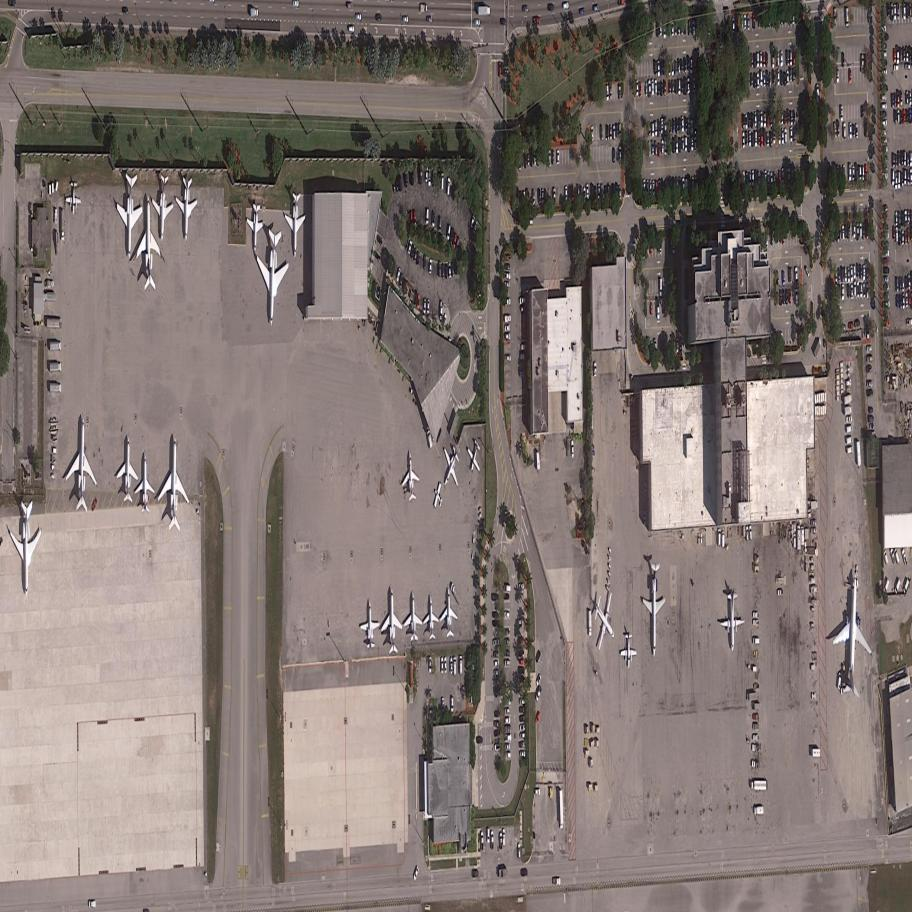large-vehicle: (448, 583, 462, 605), (559, 790, 564, 830), (813, 339, 823, 358), (750, 780, 768, 790), (47, 319, 62, 329), (426, 431, 433, 450), (894, 578, 902, 594), (810, 748, 821, 759), (478, 6, 491, 15), (883, 578, 890, 594), (50, 362, 61, 372), (903, 579, 910, 594), (857, 442, 861, 467), (588, 611, 592, 636), (807, 547, 818, 556), (893, 550, 900, 564), (902, 549, 908, 565), (49, 383, 61, 391), (752, 743, 761, 753), (751, 760, 760, 770), (747, 693, 758, 701), (50, 341, 61, 349), (44, 293, 55, 301), (890, 549, 896, 563), (837, 673, 842, 689), (420, 5, 428, 15), (844, 396, 853, 404), (798, 526, 801, 548), (810, 502, 818, 510), (45, 280, 53, 288), (251, 8, 259, 16), (754, 807, 763, 814), (845, 407, 852, 416), (62, 210, 64, 240), (801, 526, 804, 545), (753, 723, 760, 731), (89, 900, 96, 908), (753, 638, 760, 643)
plane: (830, 564, 877, 704), (253, 223, 293, 332), (62, 408, 100, 520), (585, 575, 626, 668), (8, 492, 42, 602), (155, 433, 192, 534), (429, 432, 472, 504), (116, 170, 145, 262), (135, 193, 161, 293), (642, 561, 666, 661), (150, 168, 176, 247), (282, 188, 307, 261), (115, 433, 139, 508), (719, 590, 746, 654), (175, 174, 198, 246), (381, 587, 403, 655), (461, 431, 488, 481), (135, 450, 155, 516), (401, 448, 420, 505), (246, 201, 265, 256), (360, 598, 380, 650), (404, 592, 423, 642), (441, 588, 458, 639), (423, 593, 439, 641), (429, 478, 447, 516), (620, 631, 637, 671), (65, 178, 82, 218)
small-vehicle: (374, 233, 385, 246), (413, 866, 420, 882), (397, 170, 402, 190), (373, 251, 382, 262), (535, 687, 542, 701), (473, 218, 479, 234), (394, 172, 399, 191), (804, 266, 811, 278), (879, 119, 888, 128), (535, 712, 541, 725), (534, 651, 541, 662), (392, 175, 396, 194), (470, 214, 475, 229), (404, 234, 409, 249), (396, 268, 401, 283), (404, 169, 408, 187), (536, 674, 542, 686), (883, 550, 888, 564), (410, 245, 415, 259), (441, 695, 445, 712), (456, 236, 460, 253), (447, 223, 451, 240), (408, 241, 413, 254), (432, 210, 436, 226), (480, 833, 484, 849), (414, 248, 418, 264), (443, 313, 447, 329), (419, 162, 422, 183), (453, 233, 457, 248), (444, 658, 448, 672), (417, 252, 421, 266), (402, 278, 406, 292), (414, 291, 418, 305), (651, 141, 655, 155), (534, 16, 540, 25), (571, 440, 574, 458), (451, 694, 454, 712), (425, 165, 428, 183), (411, 167, 414, 185), (472, 870, 478, 879), (809, 528, 818, 534), (441, 172, 444, 189), (692, 20, 695, 37), (901, 210, 904, 227), (843, 122, 846, 139), (534, 789, 541, 796), (609, 84, 612, 100), (500, 19, 506, 27), (505, 315, 511, 323), (513, 218, 521, 224), (532, 190, 535, 206), (866, 365, 872, 373), (348, 25, 354, 33), (474, 18, 480, 26), (426, 208, 429, 224), (429, 259, 432, 275), (490, 832, 493, 848), (517, 843, 520, 859), (423, 298, 426, 314), (645, 81, 648, 97), (747, 15, 750, 31), (898, 172, 901, 188), (892, 169, 895, 185), (897, 92, 900, 108), (893, 3, 896, 19), (846, 9, 849, 25), (849, 164, 852, 180), (548, 150, 551, 165), (606, 85, 609, 100), (499, 62, 502, 77), (718, 530, 721, 545), (429, 658, 432, 673), (441, 657, 444, 672), (410, 208, 413, 223), (487, 827, 490, 842), (500, 833, 503, 848), (767, 113, 770, 128), (784, 130, 787, 145), (648, 80, 651, 95), (663, 24, 666, 39), (675, 21, 678, 36), (671, 61, 674, 76), (674, 60, 677, 75), (892, 224, 895, 239), (895, 210, 898, 225), (900, 48, 903, 63), (816, 86, 819, 101), (849, 124, 852, 139), (836, 226, 839, 241), (606, 126, 609, 140), (609, 126, 612, 140), (527, 152, 530, 166), (618, 84, 621, 98), (620, 83, 623, 97), (504, 333, 510, 340), (493, 670, 500, 676), (504, 660, 510, 667), (504, 298, 510, 305), (519, 298, 526, 304), (504, 263, 511, 269), (883, 292, 889, 299), (752, 735, 759, 741), (375, 15, 381, 22), (292, 0, 299, 6), (403, 16, 409, 23), (438, 217, 441, 231), (506, 735, 512, 742), (519, 697, 525, 704), (519, 732, 526, 738), (504, 586, 510, 593), (517, 618, 523, 625), (518, 668, 524, 675), (477, 736, 483, 743), (451, 261, 454, 275), (454, 259, 457, 273), (521, 868, 527, 875), (400, 273, 403, 287), (778, 111, 781, 125), (745, 115, 748, 129), (772, 71, 775, 85), (781, 52, 784, 66), (753, 55, 756, 69), (810, 520, 817, 526), (655, 141, 658, 155), (661, 140, 664, 154), (656, 21, 659, 35), (684, 20, 687, 34), (688, 21, 691, 35), (732, 18, 735, 32), (684, 58, 687, 72), (678, 79, 681, 93), (761, 172, 764, 186), (881, 136, 887, 143), (904, 170, 907, 184), (904, 211, 907, 225), (881, 102, 887, 109), (881, 93, 887, 100), (835, 269, 838, 283), (841, 268, 844, 282), (866, 324, 869, 338), (834, 122, 837, 136), (834, 9, 837, 23), (842, 225, 845, 239), (862, 224, 865, 238), (852, 167, 855, 181), (847, 426, 852, 434), (847, 436, 852, 444), (847, 446, 852, 454), (429, 166, 431, 186), (519, 676, 524, 684), (893, 63, 898, 71), (881, 25, 886, 33), (551, 151, 554, 164), (600, 127, 603, 140), (616, 124, 619, 137), (643, 179, 646, 192), (417, 295, 420, 308), (769, 73, 772, 86), (753, 74, 756, 87), (760, 72, 763, 85), (770, 114, 773, 127), (781, 112, 784, 125), (750, 55, 753, 68), (787, 111, 790, 124), (655, 122, 658, 135), (661, 122, 664, 135), (664, 120, 667, 133), (651, 80, 654, 93), (775, 270, 778, 283), (741, 14, 744, 27), (655, 62, 658, 75), (901, 174, 904, 187), (904, 276, 907, 289), (901, 232, 904, 245), (908, 293, 911, 306), (860, 283, 863, 296), (782, 271, 785, 284), (845, 224, 848, 237), (460, 654, 462, 673), (523, 6, 529, 12), (548, 4, 554, 10), (593, 4, 599, 10), (520, 343, 526, 349), (519, 372, 525, 378), (493, 641, 499, 647), (504, 325, 510, 331), (866, 346, 872, 352), (650, 303, 653, 315), (846, 417, 852, 423), (356, 15, 362, 21), (518, 584, 524, 590), (518, 651, 524, 657), (494, 744, 500, 750), (494, 730, 500, 736), (494, 720, 500, 726), (494, 711, 500, 717), (554, 879, 560, 885), (758, 173, 761, 185), (745, 132, 748, 144), (678, 121, 681, 133), (900, 93, 903, 105), (881, 84, 887, 90), (881, 69, 887, 75), (881, 61, 887, 67), (894, 110, 897, 122), (903, 110, 906, 122), (782, 231, 785, 243), (580, 8, 585, 15), (520, 305, 525, 312), (867, 381, 872, 388), (867, 391, 872, 398), (884, 301, 889, 308), (883, 258, 888, 265), (883, 276, 888, 283), (753, 713, 758, 720), (505, 743, 510, 750), (505, 752, 510, 759), (520, 715, 525, 722), (505, 717, 510, 724), (518, 637, 523, 644), (881, 43, 886, 50), (440, 303, 442, 320), (778, 69, 780, 86), (895, 173, 897, 190), (857, 224, 859, 241), (770, 173, 773, 184), (601, 184, 603, 200), (636, 80, 638, 96), (524, 152, 526, 168), (553, 188, 555, 204), (448, 178, 450, 194), (503, 830, 505, 846), (784, 70, 786, 86), (766, 71, 768, 87), (665, 138, 667, 154), (690, 57, 692, 73), (897, 46, 899, 62), (891, 5, 893, 21), (782, 168, 784, 184), (841, 105, 843, 121), (843, 166, 845, 182), (613, 125, 615, 140), (619, 185, 621, 200), (563, 3, 568, 9), (520, 353, 525, 359), (493, 612, 498, 618), (505, 273, 511, 278), (868, 407, 873, 413), (869, 424, 874, 430), (660, 281, 662, 296), (841, 325, 846, 331), (650, 241, 652, 256), (883, 241, 888, 247), (883, 250, 889, 255), (883, 268, 889, 273), (504, 638, 509, 644), (347, 3, 352, 9), (451, 658, 453, 673), (454, 659, 456, 674), (427, 16, 432, 22), (519, 706, 524, 712), (520, 724, 525, 730), (520, 751, 525, 757), (504, 707, 509, 713), (519, 659, 524, 665), (504, 594, 509, 600), (427, 299, 429, 314), (904, 4, 906, 19), (781, 70, 783, 85), (773, 52, 775, 67), (752, 170, 754, 185), (790, 128, 792, 143), (793, 110, 795, 125), (743, 132, 745, 147), (897, 5, 899, 20), (652, 122, 654, 137), (691, 137, 693, 152), (659, 142, 661, 157), (660, 21, 662, 36), (672, 22, 674, 37), (658, 61, 660, 76), (907, 152, 909, 167), (881, 156, 887, 161), (882, 165, 887, 171), (882, 173, 887, 179), (882, 146, 887, 152), (906, 47, 908, 62), (909, 47, 911, 62), (882, 51, 887, 57), (881, 112, 886, 118), (883, 33, 888, 39), (861, 104, 863, 119), (865, 122, 867, 137), (842, 51, 844, 66), (906, 319, 911, 325), (838, 122, 840, 137), (866, 223, 868, 238), (856, 165, 858, 180), (755, 132, 757, 146), (557, 150, 559, 164), (591, 127, 593, 141), (613, 147, 615, 161), (619, 146, 621, 160), (534, 151, 536, 165), (639, 80, 641, 94), (519, 156, 521, 170), (529, 218, 533, 225), (506, 253, 510, 260), (906, 3, 908, 17), (794, 533, 796, 547), (506, 699, 510, 706), (439, 262, 441, 276), (424, 255, 426, 269), (449, 263, 451, 277), (414, 211, 416, 225), (849, 69, 851, 83), (787, 71, 789, 85), (790, 67, 792, 81), (748, 113, 750, 127), (761, 111, 763, 125), (764, 113, 766, 127), (766, 53, 768, 67), (778, 51, 780, 65), (787, 51, 789, 65), (763, 72, 765, 86), (790, 51, 792, 65), (757, 73, 759, 87), (794, 128, 796, 142), (749, 132, 751, 146), (758, 130, 760, 144), (782, 130, 784, 144), (764, 132, 766, 146), (792, 11, 794, 25), (685, 118, 687, 132), (676, 138, 678, 152), (753, 15, 755, 29), (678, 21, 680, 35), (681, 21, 683, 35), (681, 59, 683, 73), (688, 78, 690, 92), (685, 79, 687, 93), (678, 58, 680, 72), (669, 62, 671, 76), (765, 171, 767, 185), (907, 170, 909, 184), (901, 152, 903, 166), (895, 153, 897, 167), (902, 276, 904, 290), (904, 230, 906, 244), (899, 212, 901, 226), (894, 49, 896, 63), (903, 47, 905, 61), (894, 92, 896, 106), (908, 275, 910, 289), (788, 169, 790, 183), (771, 231, 773, 245), (783, 291, 785, 305), (796, 289, 798, 303), (863, 266, 865, 280), (853, 123, 855, 137), (856, 124, 858, 138), (837, 69, 839, 83), (860, 223, 862, 237), (840, 226, 842, 240), (848, 223, 850, 237), (587, 186, 589, 199), (537, 151, 539, 164), (598, 185, 600, 198), (584, 188, 586, 201), (594, 362, 596, 375), (571, 187, 573, 200), (565, 187, 567, 200), (542, 189, 544, 202), (538, 189, 540, 202), (523, 191, 525, 204), (655, 341, 657, 354), (676, 340, 678, 353), (646, 242, 648, 255), (659, 240, 661, 253), (723, 533, 725, 546), (442, 264, 444, 277), (793, 68, 795, 81), (743, 116, 745, 129), (751, 114, 753, 127), (755, 113, 757, 126), (758, 113, 760, 126), (746, 172, 748, 185), (791, 112, 793, 125), (770, 132, 772, 145), (773, 129, 775, 142), (779, 130, 781, 143), (658, 83, 660, 96), (658, 122, 660, 135), (682, 119, 684, 132), (688, 121, 690, 134), (691, 121, 693, 134), (673, 139, 675, 152), (679, 140, 681, 153), (682, 137, 684, 150), (685, 137, 687, 150), (655, 80, 657, 93), (744, 15, 746, 28), (687, 57, 689, 70), (675, 80, 677, 93), (663, 62, 665, 75), (904, 152, 906, 165), (899, 231, 901, 244), (907, 229, 909, 242), (887, 3, 889, 16), (892, 92, 894, 105), (909, 109, 911, 122), (905, 293, 907, 306), (851, 285, 853, 298), (857, 283, 859, 296), (863, 283, 865, 296), (866, 284, 868, 297), (838, 269, 840, 282), (857, 266, 859, 279), (779, 170, 781, 183), (795, 269, 797, 282), (786, 289, 788, 302), (860, 266, 862, 279), (866, 266, 868, 279), (900, 295, 902, 308), (854, 224, 856, 237), (505, 355, 510, 360), (494, 652, 499, 657), (493, 622, 498, 627), (493, 595, 498, 600), (867, 356, 872, 361), (883, 224, 888, 229), (883, 214, 888, 219), (753, 621, 758, 626), (504, 651, 509, 656), (504, 629, 509, 634), (505, 727, 510, 732), (881, 130, 886, 135), (906, 64, 911, 69), (619, 124, 621, 136), (616, 187, 618, 199), (578, 187, 580, 199), (505, 281, 509, 287), (855, 321, 859, 327), (869, 416, 873, 422), (657, 307, 659, 319), (651, 343, 653, 355), (849, 322, 853, 328), (672, 241, 674, 253), (884, 284, 888, 290), (746, 527, 748, 539), (750, 527, 752, 539), (505, 612, 509, 618), (520, 742, 524, 748), (445, 265, 447, 277), (757, 56, 759, 68), (763, 53, 765, 65), (647, 182, 649, 194), (650, 182, 652, 194), (653, 182, 655, 194), (656, 181, 658, 193), (659, 180, 661, 192), (679, 179, 681, 191), (743, 172, 745, 184), (750, 173, 752, 185), (752, 134, 754, 146), (767, 133, 769, 145), (676, 120, 678, 132), (661, 83, 663, 95), (669, 80, 671, 92), (672, 80, 674, 92), (681, 80, 683, 92), (898, 154, 900, 166), (899, 277, 901, 289), (896, 278, 898, 290), (896, 229, 898, 241), (906, 111, 908, 123), (898, 110, 900, 122), (903, 295, 905, 307), (842, 287, 844, 299), (854, 283, 856, 295), (854, 265, 856, 277), (847, 283, 849, 295), (780, 291, 782, 303), (897, 295, 899, 307), (865, 167, 867, 179), (862, 167, 864, 179), (860, 167, 862, 179), (760, 54, 762, 65), (793, 53, 795, 64), (750, 75, 752, 86), (785, 113, 787, 124), (676, 179, 678, 190), (692, 178, 694, 189), (669, 121, 671, 132), (649, 123, 651, 134), (776, 293, 778, 304), (688, 139, 690, 150), (664, 82, 666, 93), (900, 111, 902, 122), (773, 173, 775, 184), (789, 270, 791, 281), (789, 290, 791, 301), (884, 322, 889, 326), (883, 206, 887, 211), (778, 590, 782, 595), (753, 613, 758, 617), (862, 54, 863, 71), (494, 662, 498, 666), (910, 3, 911, 18), (908, 210, 909, 225), (762, 132, 763, 146), (661, 61, 662, 75), (851, 266, 852, 280), (686, 179, 687, 192), (893, 153, 894, 166), (907, 91, 908, 104), (910, 91, 911, 104), (845, 268, 846, 281), (848, 268, 849, 281), (768, 173, 769, 185), (673, 121, 674, 132), (683, 180, 684, 190)
